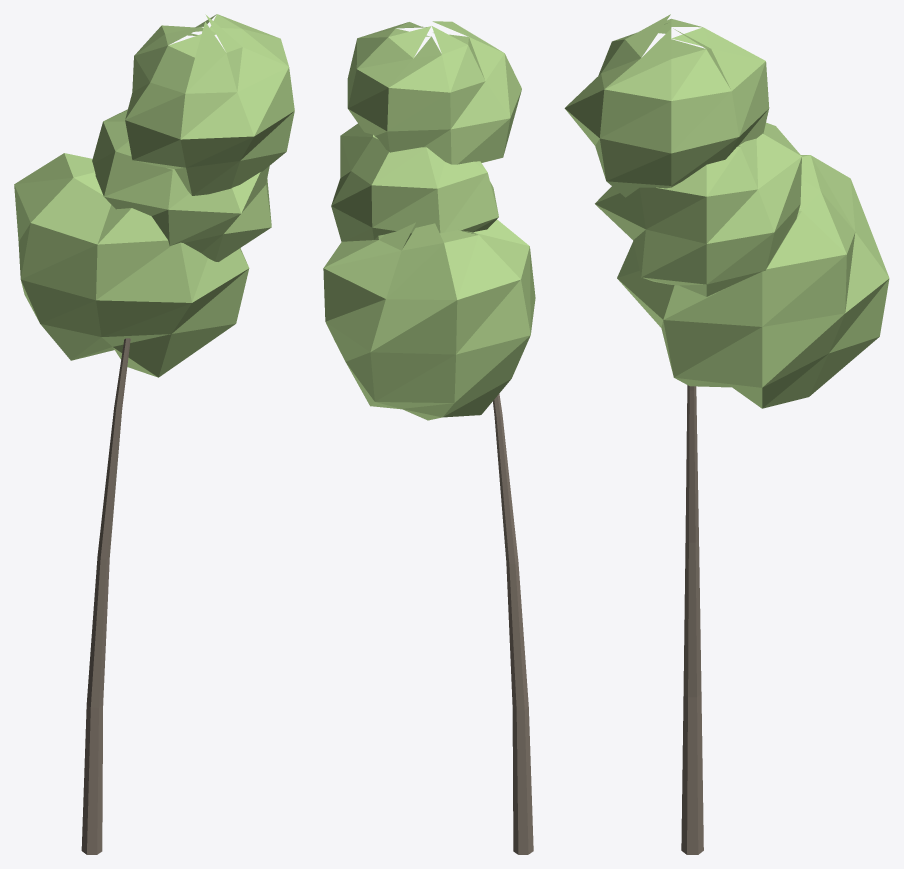
The model's file is temperate-forest-ecology-oak-sapling-18213f91__3811.glb.
3 views of the same model, side by side, from view 1: azimuth 30°, elevation 25°; view 2: azimuth 150°, elevation 25°; view 3: azimuth 270°, elevation 25° (orthographic). The views are drawn at different scales.
Parts seen in each view (by area): view 1: oak-sapling; view 2: oak-sapling; view 3: oak-sapling.
Part boxes in pixels (box(x1,y1,x2,y2)): oak-sapling: box(14, 14, 294, 854); oak-sapling: box(323, 21, 535, 854); oak-sapling: box(564, 14, 889, 854).
Size of the model in its own units: 0.4587 by 1.57 by 0.5203.
